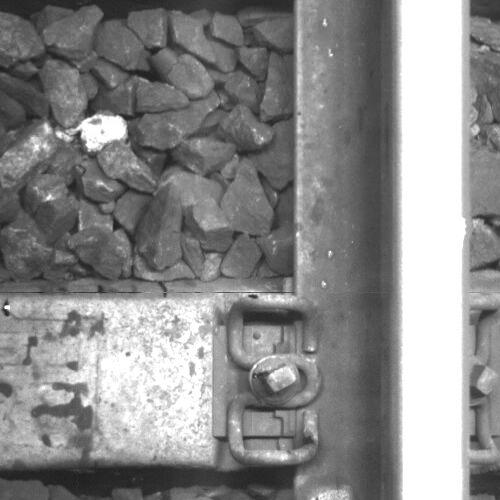rail: (393, 3, 470, 500)
tie_concr: (1, 291, 295, 465)
vossloh: (212, 296, 325, 466)
